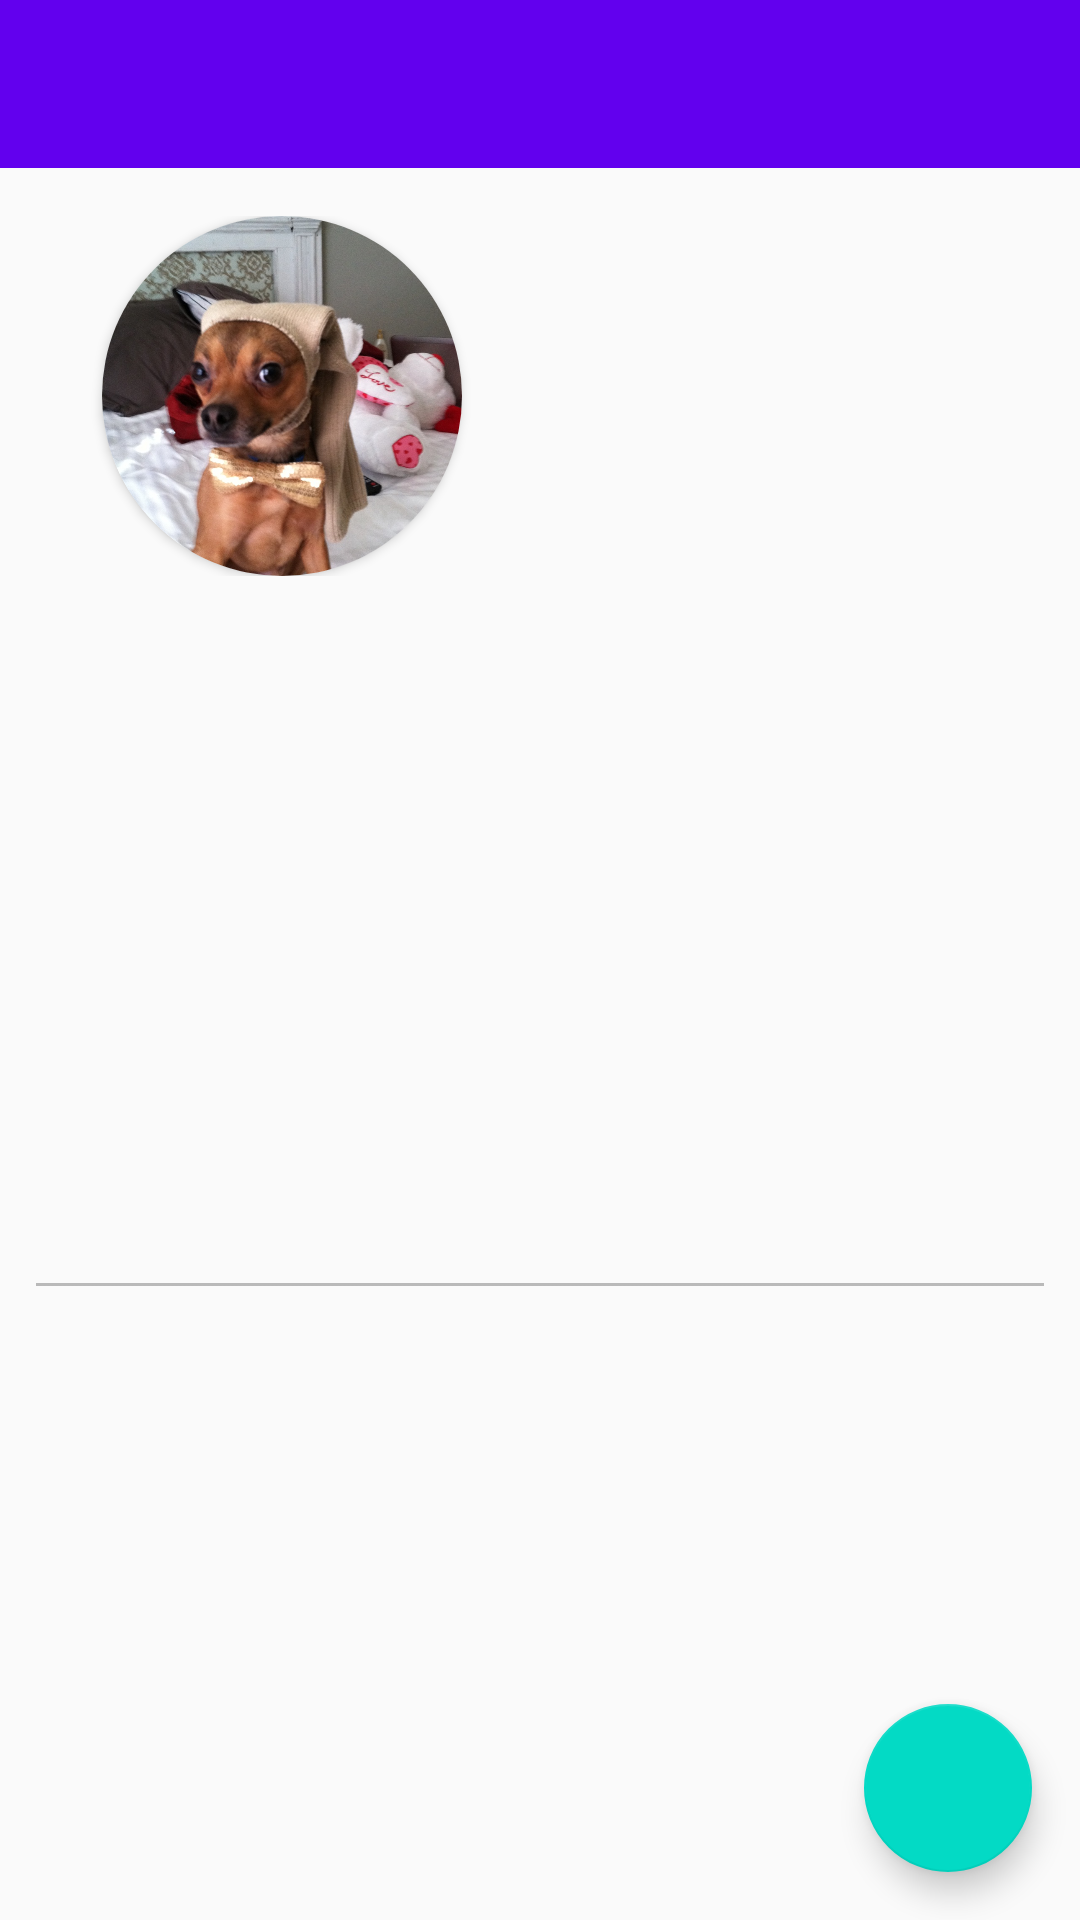

Icon bounding boxes for this 1080w x 1920h phone screenshot, format (x1, y1, x2, y2):
Profile picture: (102, 216, 462, 576)
